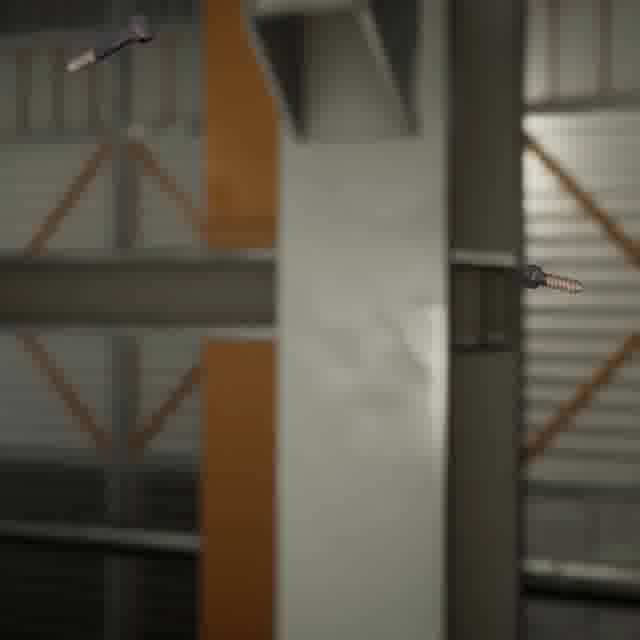bolt: (62, 9, 158, 78), (517, 258, 587, 297)
